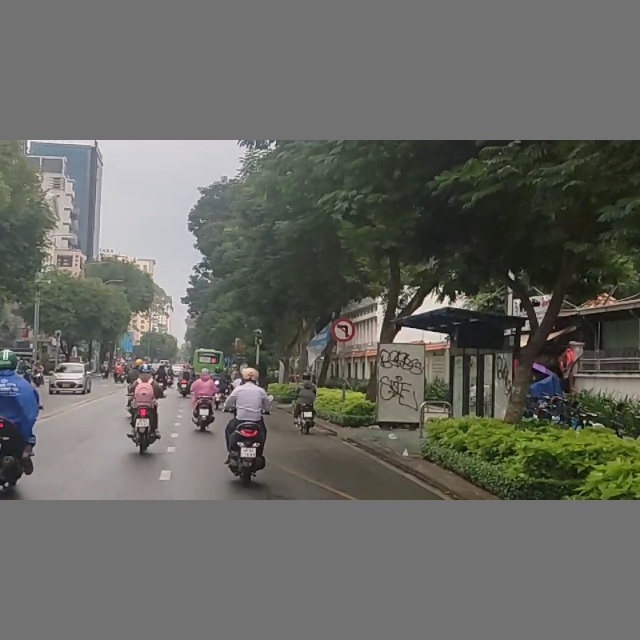P.123a: (331, 318, 355, 341)
